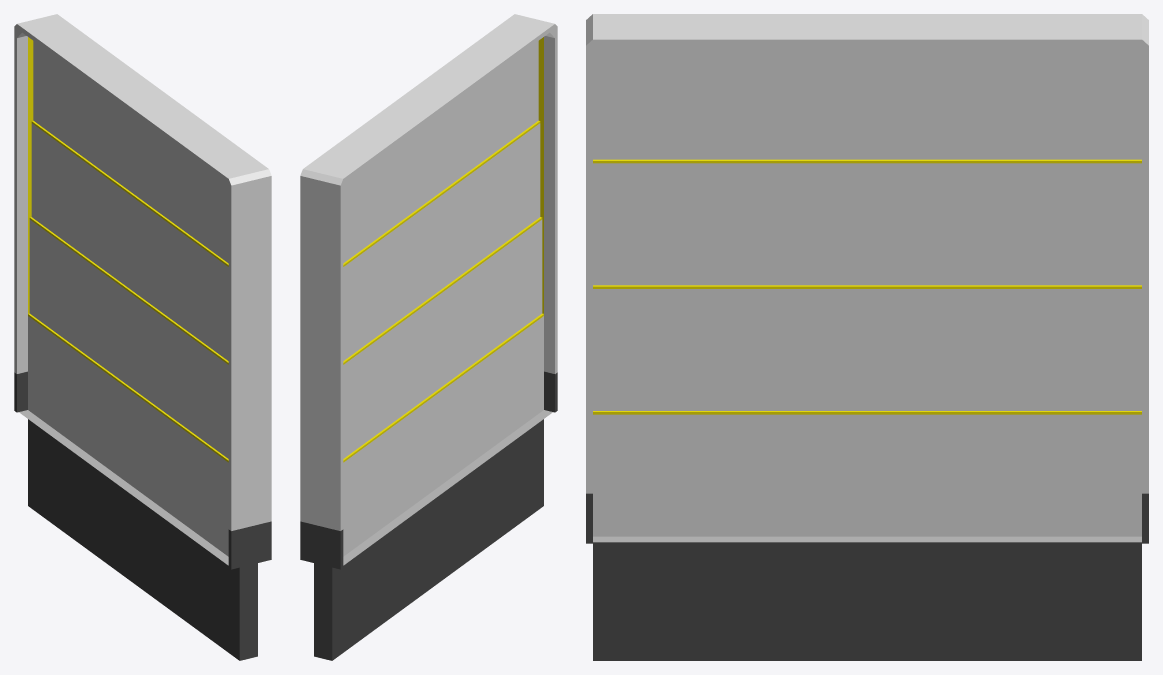
Rendered from InteriorDoor(0.2x2x2)v2.fbx.
3 renders of one model, left to right at view 1: azimuth 30°, elevation 25°; view 2: azimuth 150°, elevation 25°; view 3: azimuth 270°, elevation 25°, orthographic. The views are drawn at different scales.
Visible parts, largest first — view 1: Frame, Door P0, Door P1, Door P2, Door P3; view 2: Frame, Door P0, Door P1, Door P2, Door P3; view 3: Frame, Door P2, Door P0, Door P1, Door P3.
Part boxes in pixels (x1,y1,x2,y2): Frame: [14, 14, 271, 660]; Door P0: [28, 313, 228, 556]; Door P1: [29, 217, 228, 458]; Door P2: [31, 120, 228, 360]; Door P3: [33, 41, 228, 263]; Frame: [300, 14, 557, 660]; Door P0: [343, 313, 543, 556]; Door P1: [343, 217, 542, 458]; Door P2: [343, 120, 540, 360]; Door P3: [343, 41, 538, 263]; Frame: [586, 14, 1148, 660]; Door P2: [593, 159, 1141, 285]; Door P0: [593, 411, 1141, 536]; Door P1: [593, 285, 1141, 410]; Door P3: [593, 45, 1141, 159].
Bounding box in the file's own units: 22 × 253 × 205.
